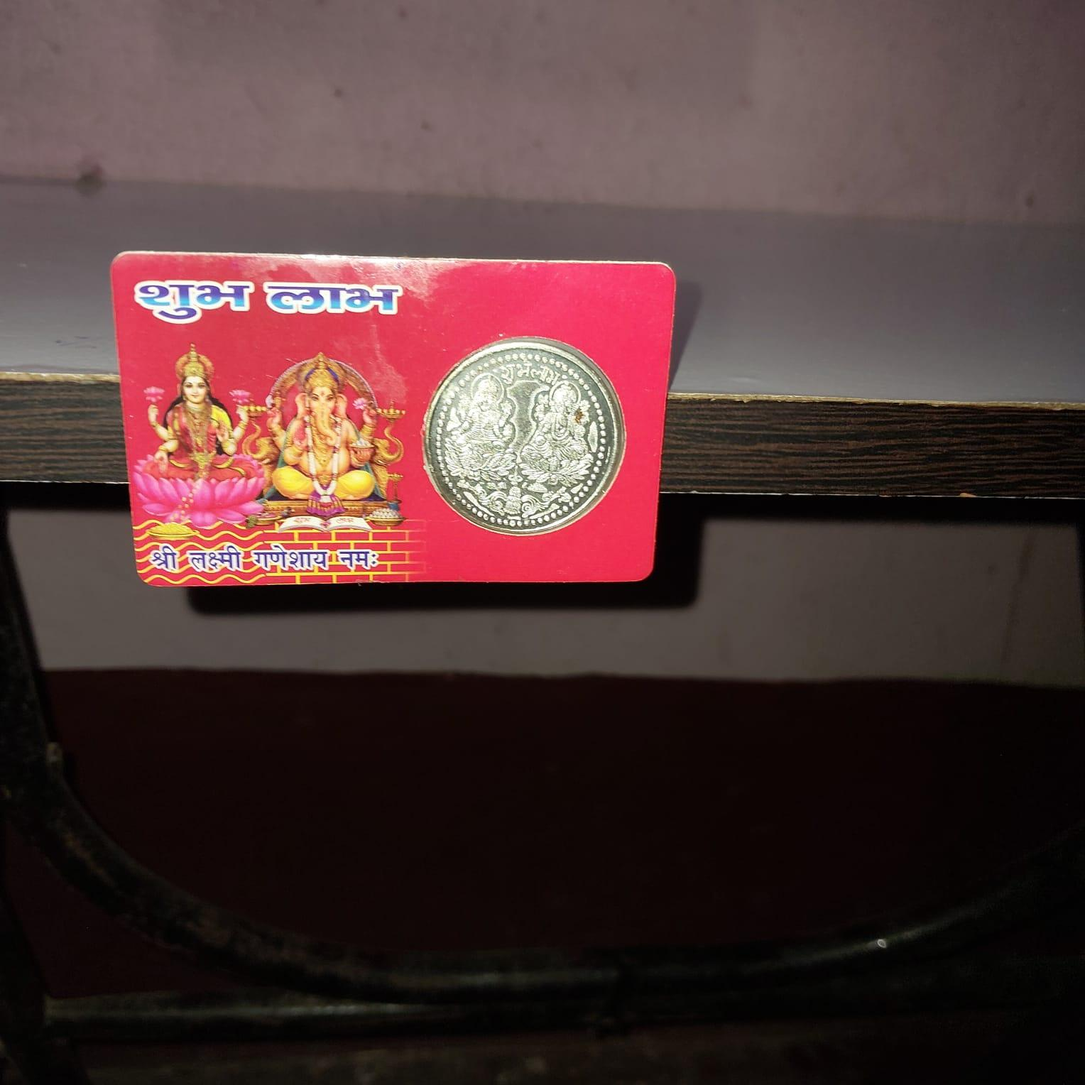blessing_card: (101, 246, 686, 597)
